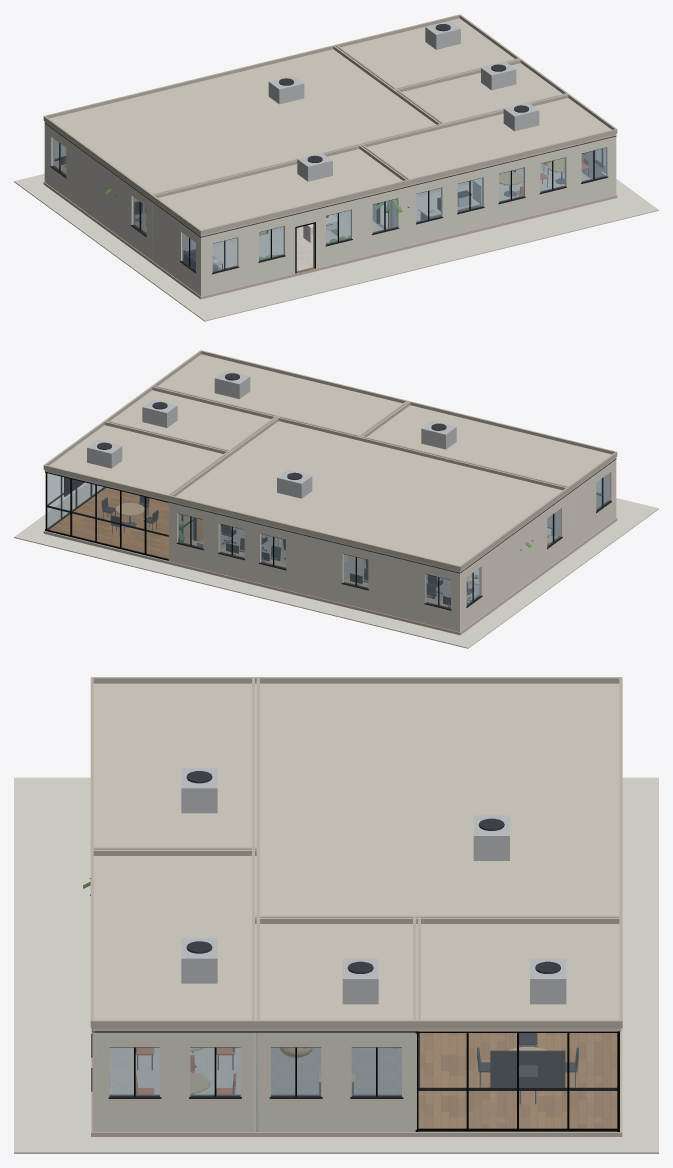
Rendered from open-space-grande.glb.
3 renders of one model, top to bottom at view 1: azimuth 30°, elevation 25°; view 2: azimuth 150°, elevation 25°; view 3: azimuth 270°, elevation 25°, orthographic. The views are drawn at different scales.
Visible parts, largest first — view 1: teto_malha, paredes_malha, terreno_malha, janelas_malha, piso_porcelanato_malha, esquadrias_malha, laje_malha, paredes_topo_malha, balcao-cafe_malha; view 2: teto_malha, paredes_malha, terreno_malha, divisorias_vidro_malha, janelas_malha, piso_madeira_malha, esquadrias_malha, laje_malha, piso_carpete_malha, paredes_topo_malha; view 3: teto_malha, terreno_malha, paredes_malha, divisorias_vidro_malha, piso_madeira_malha, janelas_malha, esquadrias_malha, piso_carpete_malha, piso_porcelanato_malha, laje_malha, tv-parede_malha.
Boxes of the visible parts, bbox=[...] form: teto_malha: bbox=[43, 14, 617, 236]; paredes_malha: bbox=[44, 123, 616, 296]; terreno_malha: bbox=[14, 173, 658, 321]; janelas_malha: bbox=[52, 138, 606, 271]; piso_porcelanato_malha: bbox=[213, 166, 590, 270]; esquadrias_malha: bbox=[50, 143, 608, 274]; laje_malha: bbox=[43, 181, 617, 299]; paredes_topo_malha: bbox=[45, 123, 616, 237]; balcao-cafe_malha: bbox=[418, 190, 479, 219]; teto_malha: bbox=[43, 350, 617, 572]; paredes_malha: bbox=[168, 459, 616, 632]; terreno_malha: bbox=[14, 483, 658, 648]; divisorias_vidro_malha: bbox=[47, 473, 192, 558]; janelas_malha: bbox=[178, 473, 609, 608]; piso_madeira_malha: bbox=[49, 487, 202, 558]; esquadrias_malha: bbox=[45, 471, 611, 610]; laje_malha: bbox=[43, 517, 617, 635]; piso_carpete_malha: bbox=[199, 527, 478, 602]; paredes_topo_malha: bbox=[168, 458, 616, 573]; teto_malha: bbox=[90, 677, 622, 1031]; terreno_malha: bbox=[14, 777, 658, 1153]; paredes_malha: bbox=[92, 1032, 416, 1131]; divisorias_vidro_malha: bbox=[418, 1033, 616, 1128]; piso_madeira_malha: bbox=[418, 1033, 617, 1128]; janelas_malha: bbox=[109, 1047, 401, 1095]; esquadrias_malha: bbox=[91, 1031, 619, 1131]; piso_carpete_malha: bbox=[271, 1048, 401, 1094]; piso_porcelanato_malha: bbox=[110, 1048, 240, 1094]; laje_malha: bbox=[91, 1028, 622, 1136]; tv-parede_malha: bbox=[490, 1050, 565, 1087].
Bounding box in the file's own units: 22 × 3.81 × 16.
22 materials, 5 textured.
